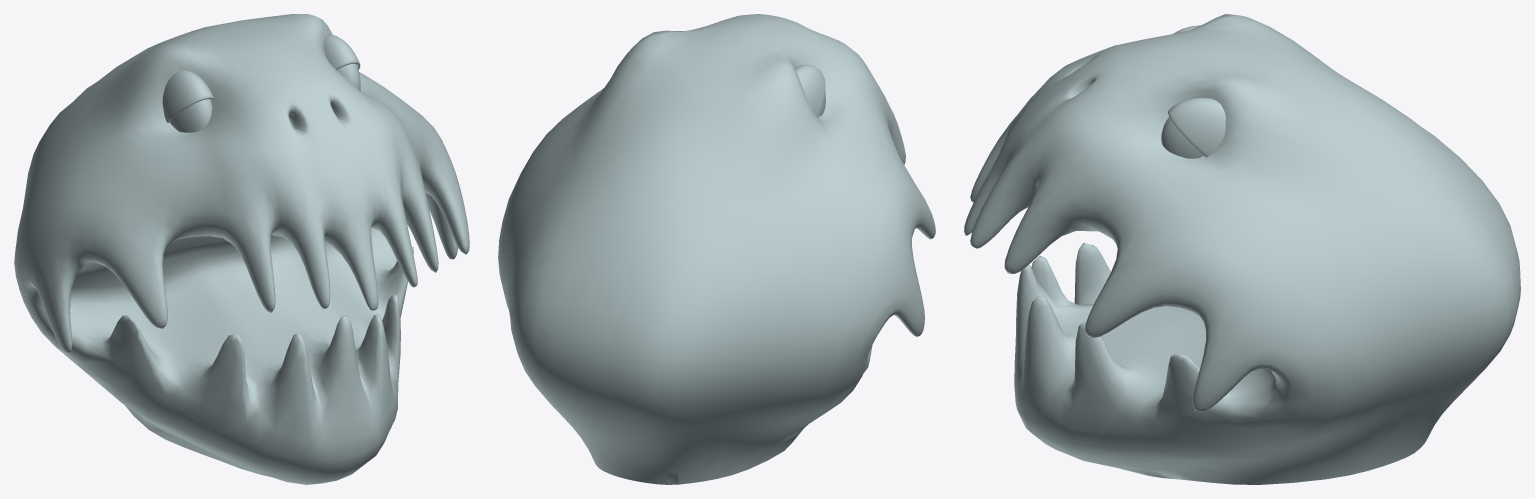
File: BuubleHead.fbx
3 views of the same model, side by side, from view 1: azimuth 30°, elevation 25°; view 2: azimuth 150°, elevation 25°; view 3: azimuth 270°, elevation 25° (orthographic). The views are drawn at different scales.
Parts seen in each view (by area): view 1: Object009; view 2: Object009; view 3: Object009.
Part boxes in pixels (left/top/right/bottom): Object009: left=14, top=14, right=469, bottom=484; Object009: left=498, top=14, right=935, bottom=484; Object009: left=964, top=14, right=1520, bottom=484.
Bounding box in the file's own units: 147 × 146 × 173.
